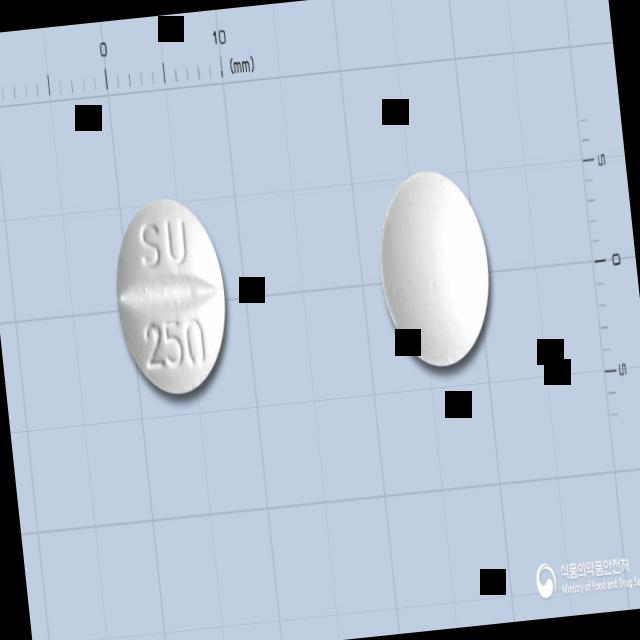Azafrine Tab: (106, 192, 236, 400), (372, 164, 499, 374)
